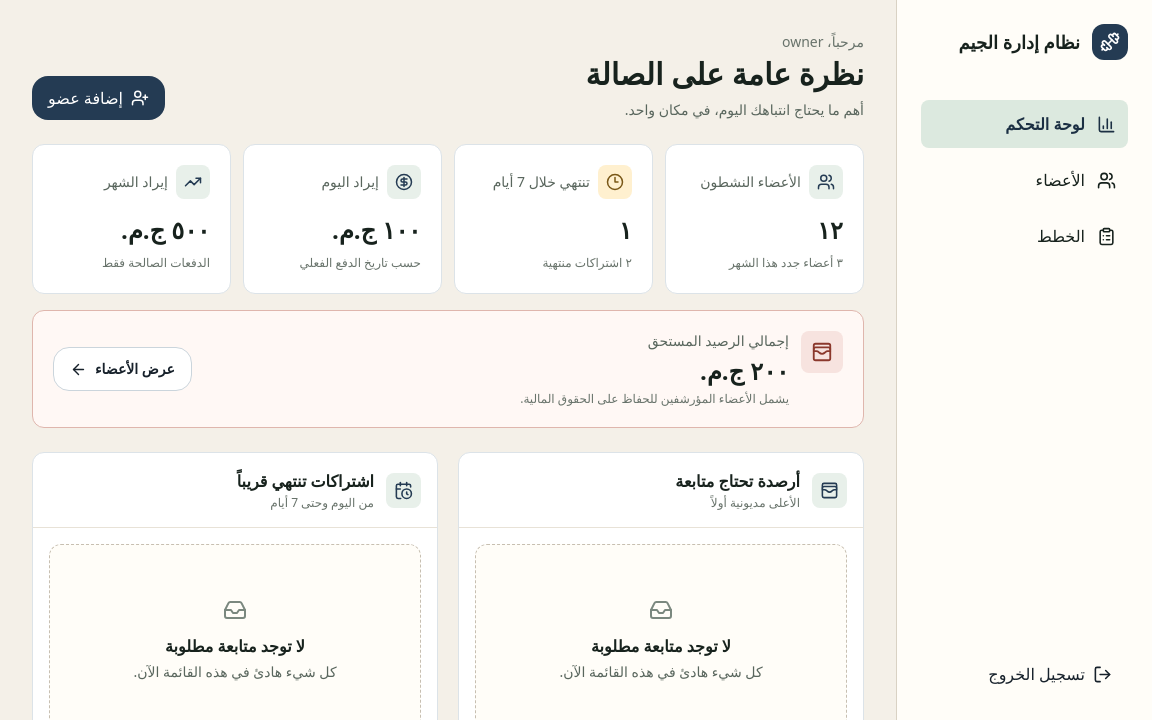
Test case: authentication experience › logs out from the desktop sidebar
Click the button "تسجيل الخروج" at [1024, 674], box x1=921 y1=652 x2=1128 y2=696
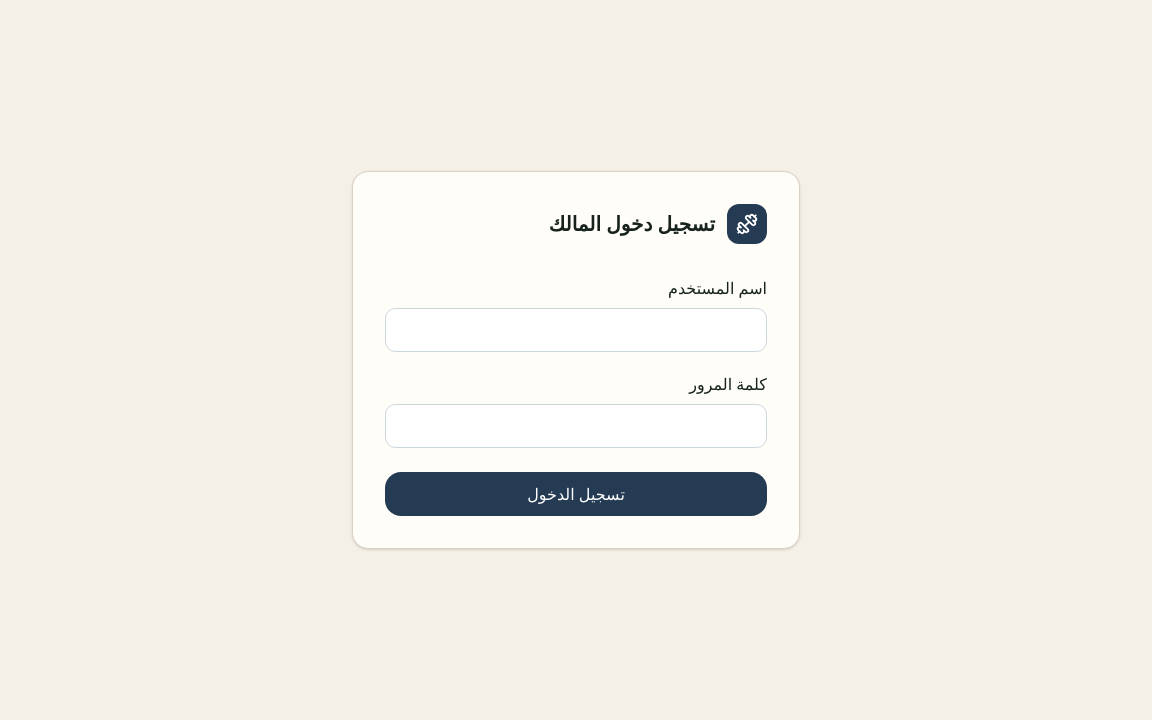
Now the button "تسجيل الدخول" is shown, box x1=385 y1=472 x2=767 y2=516
